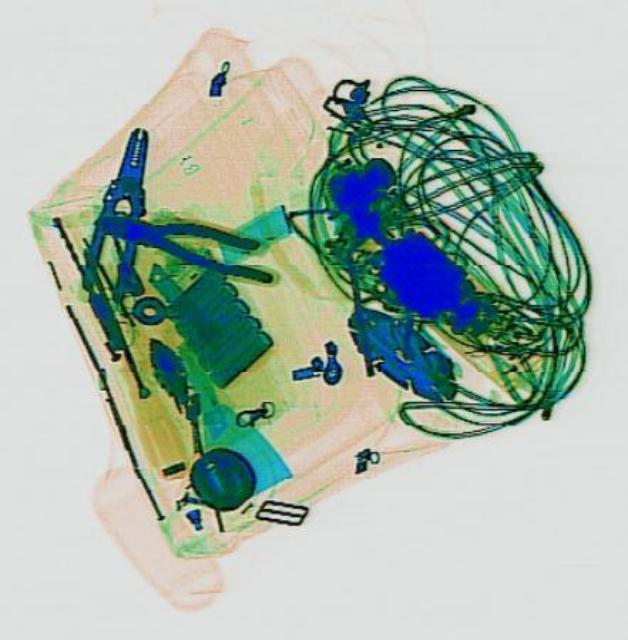Pliers: (87, 195, 280, 285), (74, 122, 161, 302)
